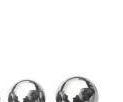ironball: (52, 73, 103, 101), (8, 76, 49, 101)
